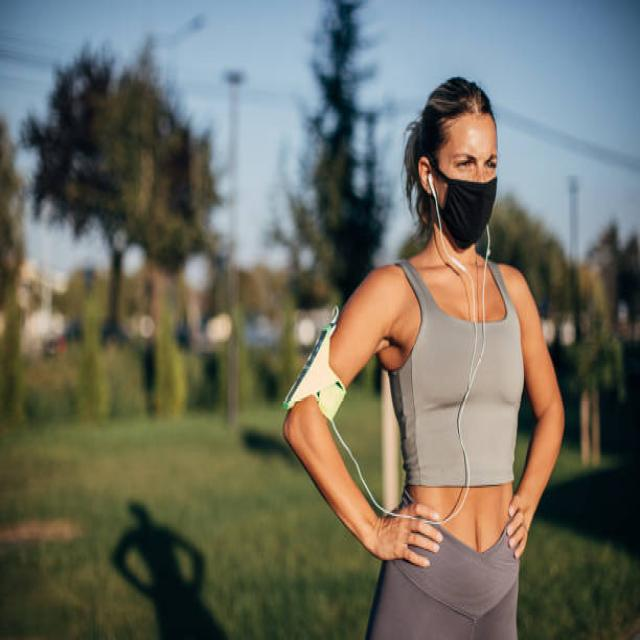Earphone: (426, 171, 491, 524)
